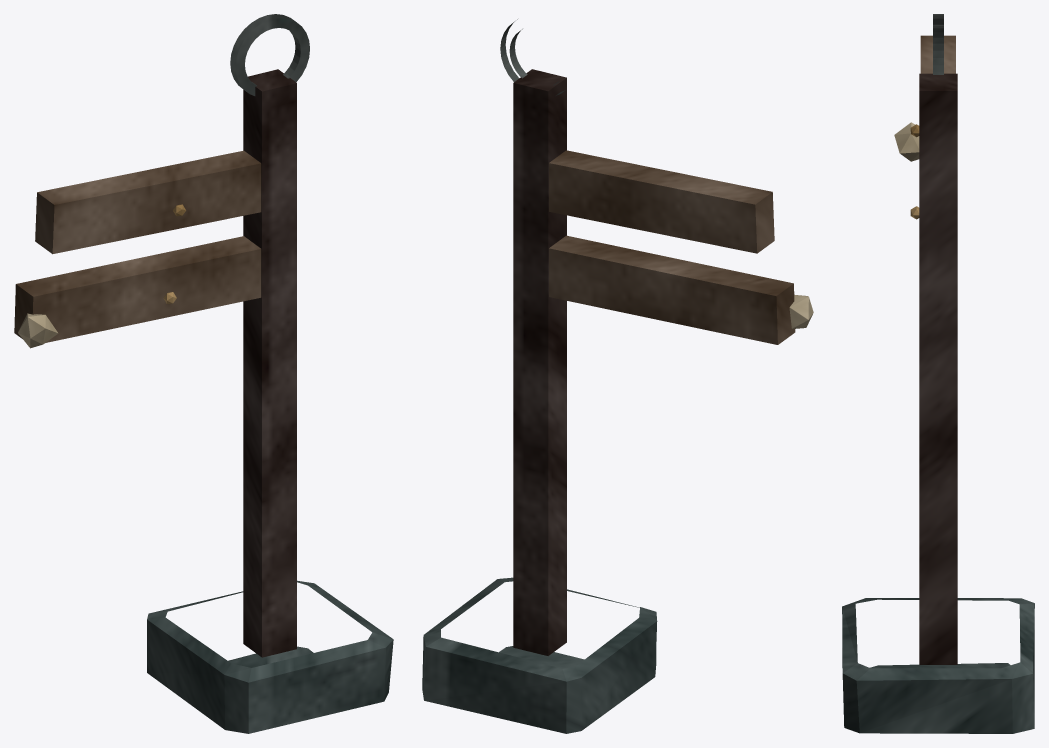
File: 0639_signpost_14.glb
3 renders of one model, left to right at view 1: azimuth 30°, elevation 25°; view 2: azimuth 150°, elevation 25°; view 3: azimuth 270°, elevation 25°, orthographic.
Parts seen in each view (by area): view 1: wood, wood_dark, stone_dark, iron, bone; view 2: wood, wood_dark, stone_dark, iron, bone; view 3: wood_dark, stone_dark, wood, iron, bone.
Part boxes in pixels (box(x1,y1,x2,y2)): wood: box(14, 150, 261, 342); wood_dark: box(243, 69, 296, 657); stone_dark: box(147, 580, 393, 733); iron: box(230, 14, 309, 95); bone: box(18, 313, 58, 348); wood: box(549, 150, 795, 344); wood_dark: box(513, 69, 566, 655); stone_dark: box(422, 577, 657, 733); iron: box(500, 19, 565, 95); bone: box(789, 294, 813, 328); wood_dark: box(919, 73, 957, 664); stone_dark: box(842, 598, 1034, 733); wood: box(920, 35, 955, 73); iron: box(933, 14, 943, 74); bone: box(894, 122, 919, 161).
Bounding box in the file's own units: 1.48 × 2.76 × 0.7067.
6 materials, 6 textured.
